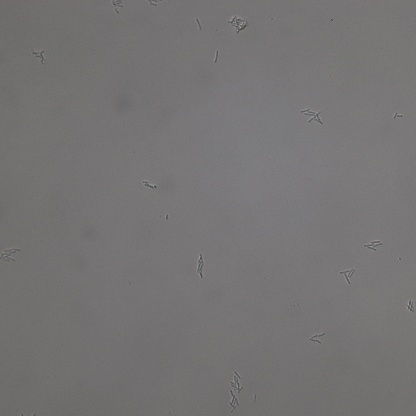R(colony): (300, 106, 323, 124), (1, 246, 22, 265), (339, 266, 355, 285), (231, 370, 244, 392), (227, 393, 241, 413), (364, 239, 384, 253), (309, 331, 326, 345)
